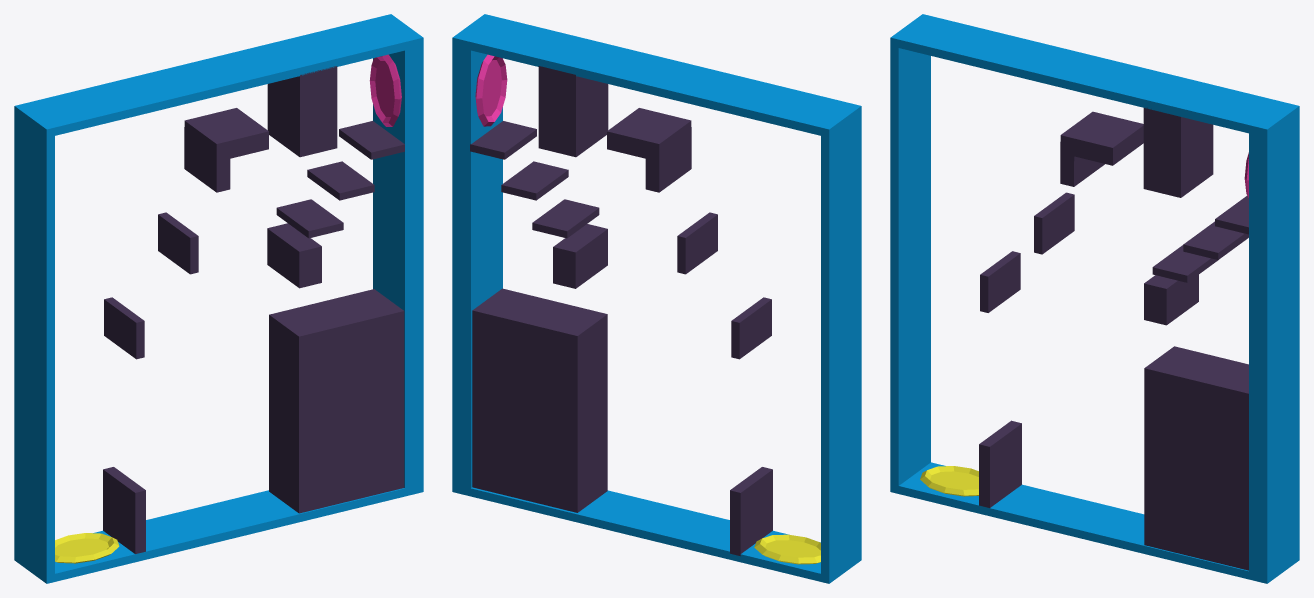
The model's file is sala C-fase1.glb.
The picture shows the model from 3 angles, left to right: view 1: azimuth 30°, elevation 25°; view 2: azimuth 150°, elevation 25°; view 3: azimuth 330°, elevation 25°; orthographic projection.
Visible parts, largest first — view 1: MeshC-col, plataforma.013-col, plataforma.012-col, plataforma.015-col, plataforma.014-col, portalRosa.001-col, portalYellow.001-col; view 2: MeshC-col, plataforma.013-col, plataforma.012-col, plataforma.015-col, plataforma.014-col, portalRosa.001-col, portalYellow.001-col; view 3: MeshC-col, plataforma.013-col, plataforma.012-col, plataforma.015-col, plataforma.014-col, portalYellow.001-col.
Part boxes in pixels (box(x1,y1,x2,y2)): MeshC-col: box(14, 14, 423, 583); plataforma.013-col: box(269, 289, 404, 513); plataforma.012-col: box(103, 121, 404, 553); plataforma.015-col: box(267, 66, 337, 157); plataforma.014-col: box(184, 108, 268, 192); portalRosa.001-col: box(369, 54, 401, 126); portalYellow.001-col: box(55, 533, 119, 563); MeshC-col: box(452, 14, 861, 583); plataforma.013-col: box(472, 288, 607, 512); plataforma.012-col: box(470, 121, 772, 556); plataforma.015-col: box(538, 66, 608, 157); plataforma.014-col: box(607, 108, 691, 192); portalRosa.001-col: box(475, 54, 507, 126); portalYellow.001-col: box(754, 534, 820, 564); MeshC-col: box(890, 14, 1299, 583); plataforma.013-col: box(1144, 346, 1248, 570); plataforma.012-col: box(979, 192, 1248, 507); plataforma.015-col: box(1143, 107, 1213, 197); plataforma.014-col: box(1060, 111, 1143, 186); portalYellow.001-col: box(920, 466, 978, 496).
Bounding box in the file's own units: 77.81 × 89.69 × 11.68.
